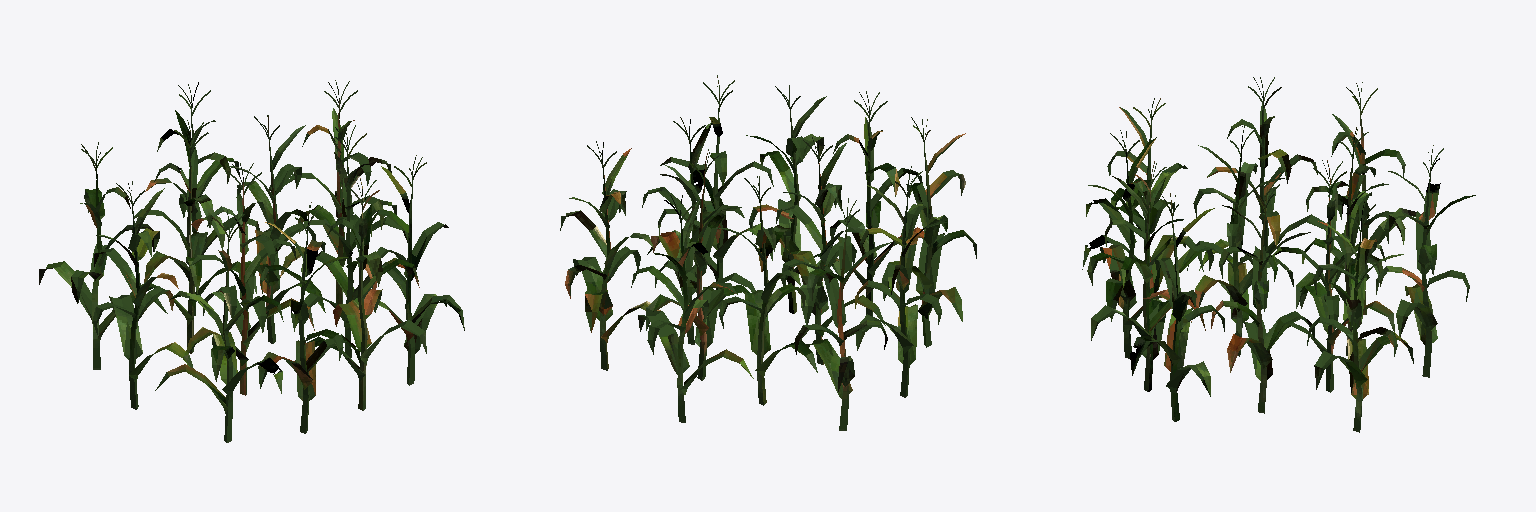
3 renders of one model, left to right at view 1: azimuth 30°, elevation 25°; view 2: azimuth 150°, elevation 25°; view 3: azimuth 270°, elevation 25°, orthographic.
Visible parts, largest first — view 1: corn.001; view 2: corn.001; view 3: corn.001.
Part boxes in pixels (x1,y1,x2,y2): corn.001: (39, 80, 464, 442); corn.001: (560, 75, 976, 430); corn.001: (1082, 77, 1475, 432).
Bounding box in the file's own units: 6.65 × 4.22 × 6.58.
1 materials, 1 textured.